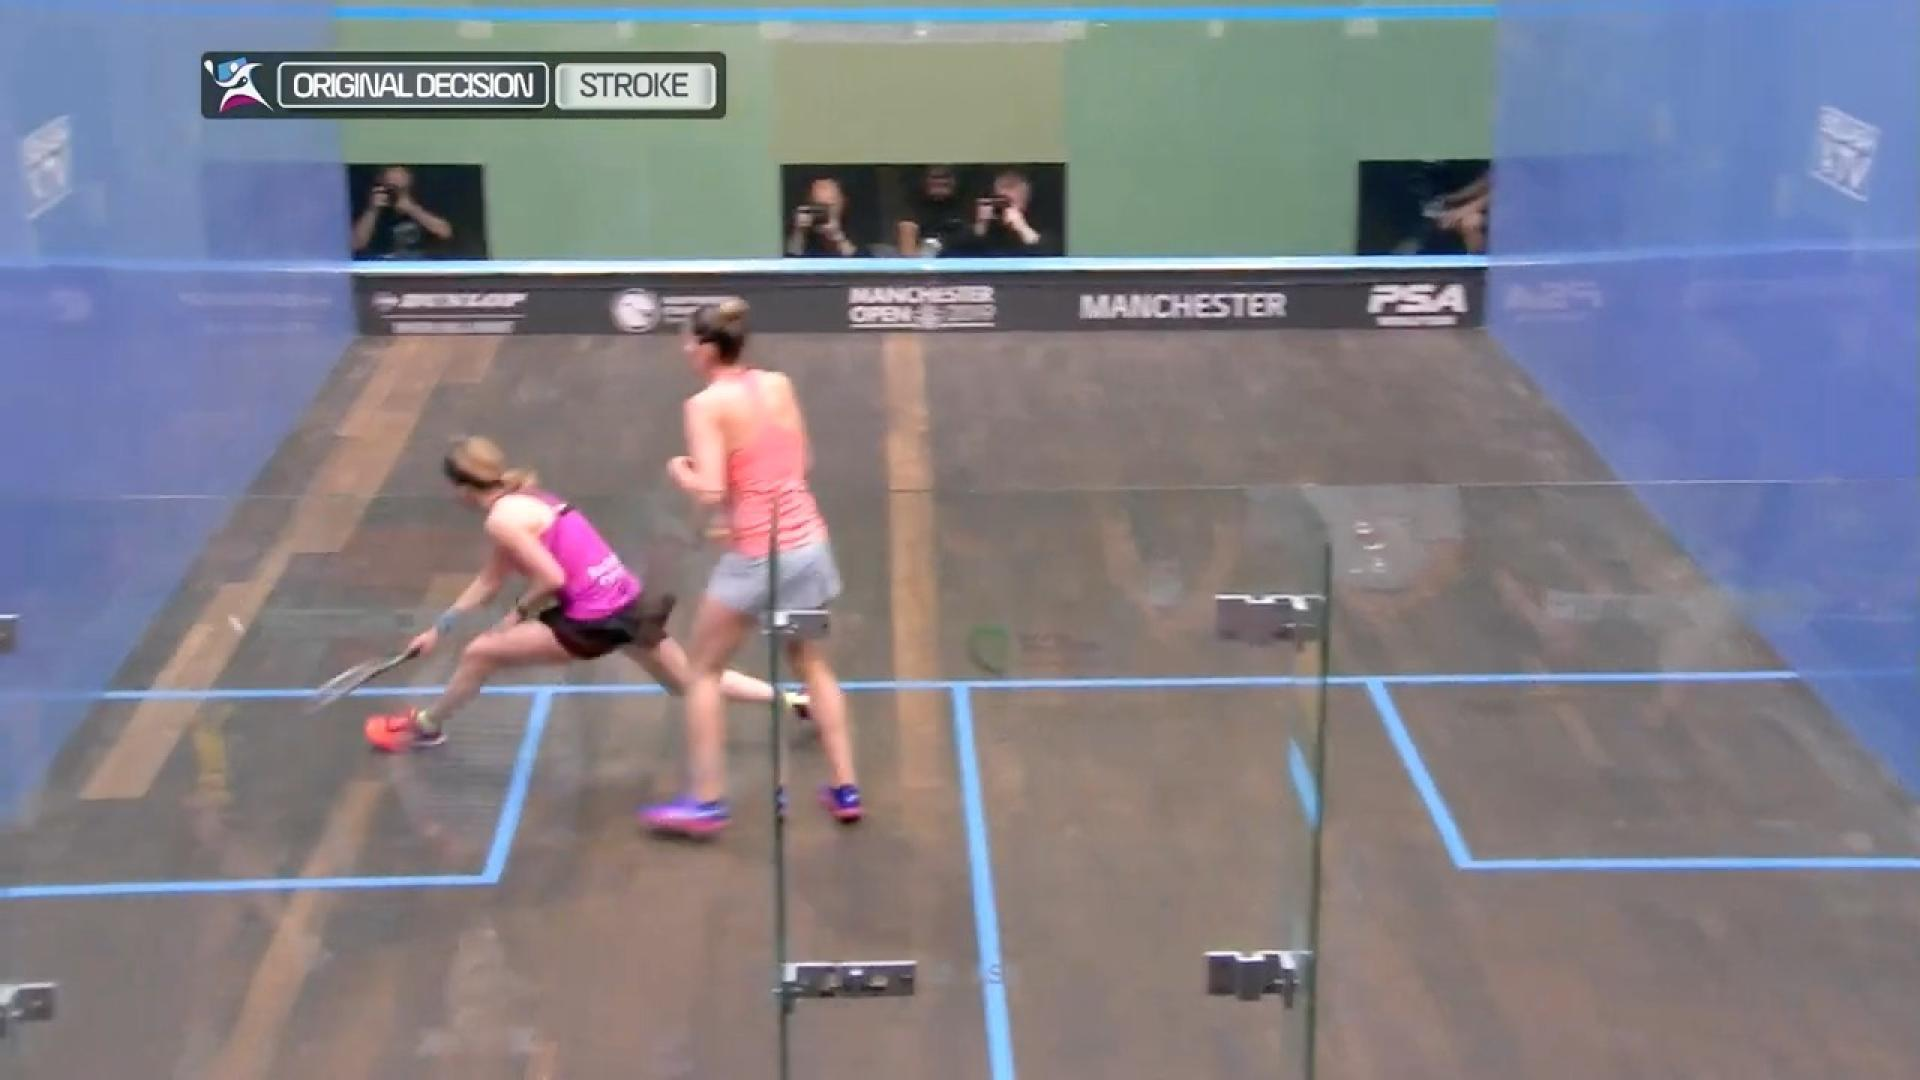Squash-Ball: (212, 605, 265, 655)
